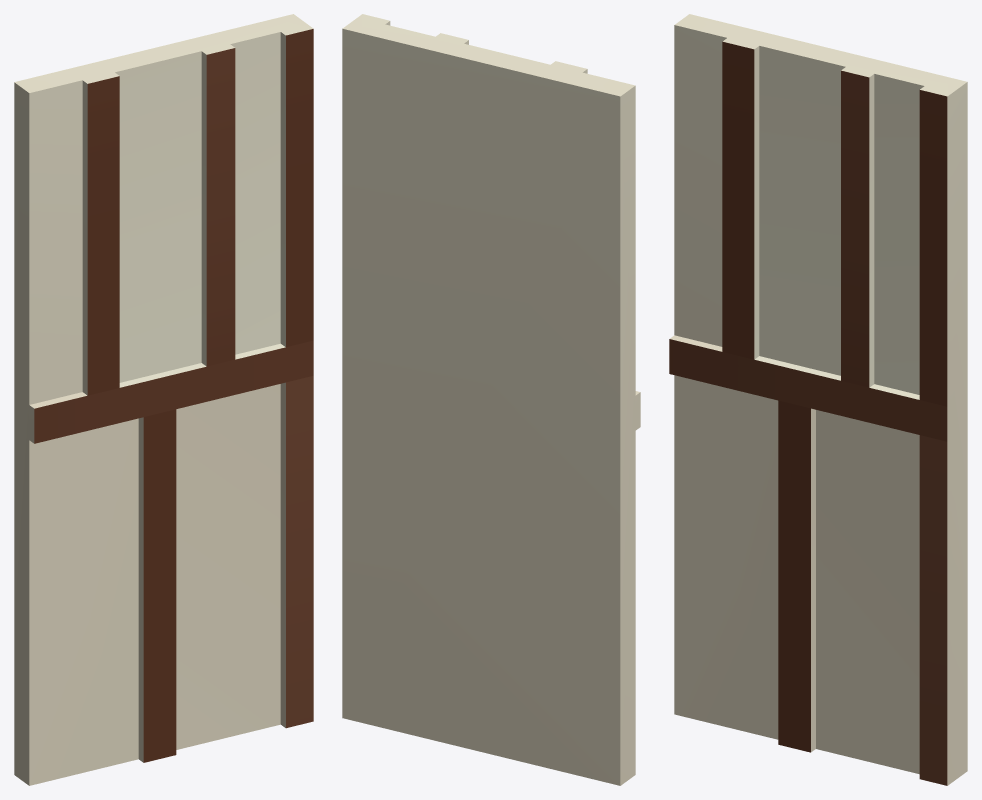
File: House_Door_Sliding_L.gltf
3 views of the same model, side by side, from view 1: azimuth 30°, elevation 25°; view 2: azimuth 150°, elevation 25°; view 3: azimuth 330°, elevation 25° (orthographic).
Visible parts, largest first — view 1: House_Door_Sliding_L; view 2: House_Door_Sliding_L; view 3: House_Door_Sliding_L.
Boxes of the visible parts, x1,y1,x2,y2 form: House_Door_Sliding_L: (14,14,313,785); House_Door_Sliding_L: (342,14,640,785); House_Door_Sliding_L: (669,14,967,785).
Size of the model in its own units: 0.8 by 1.9 by 0.1.
1 material, 1 textured.
